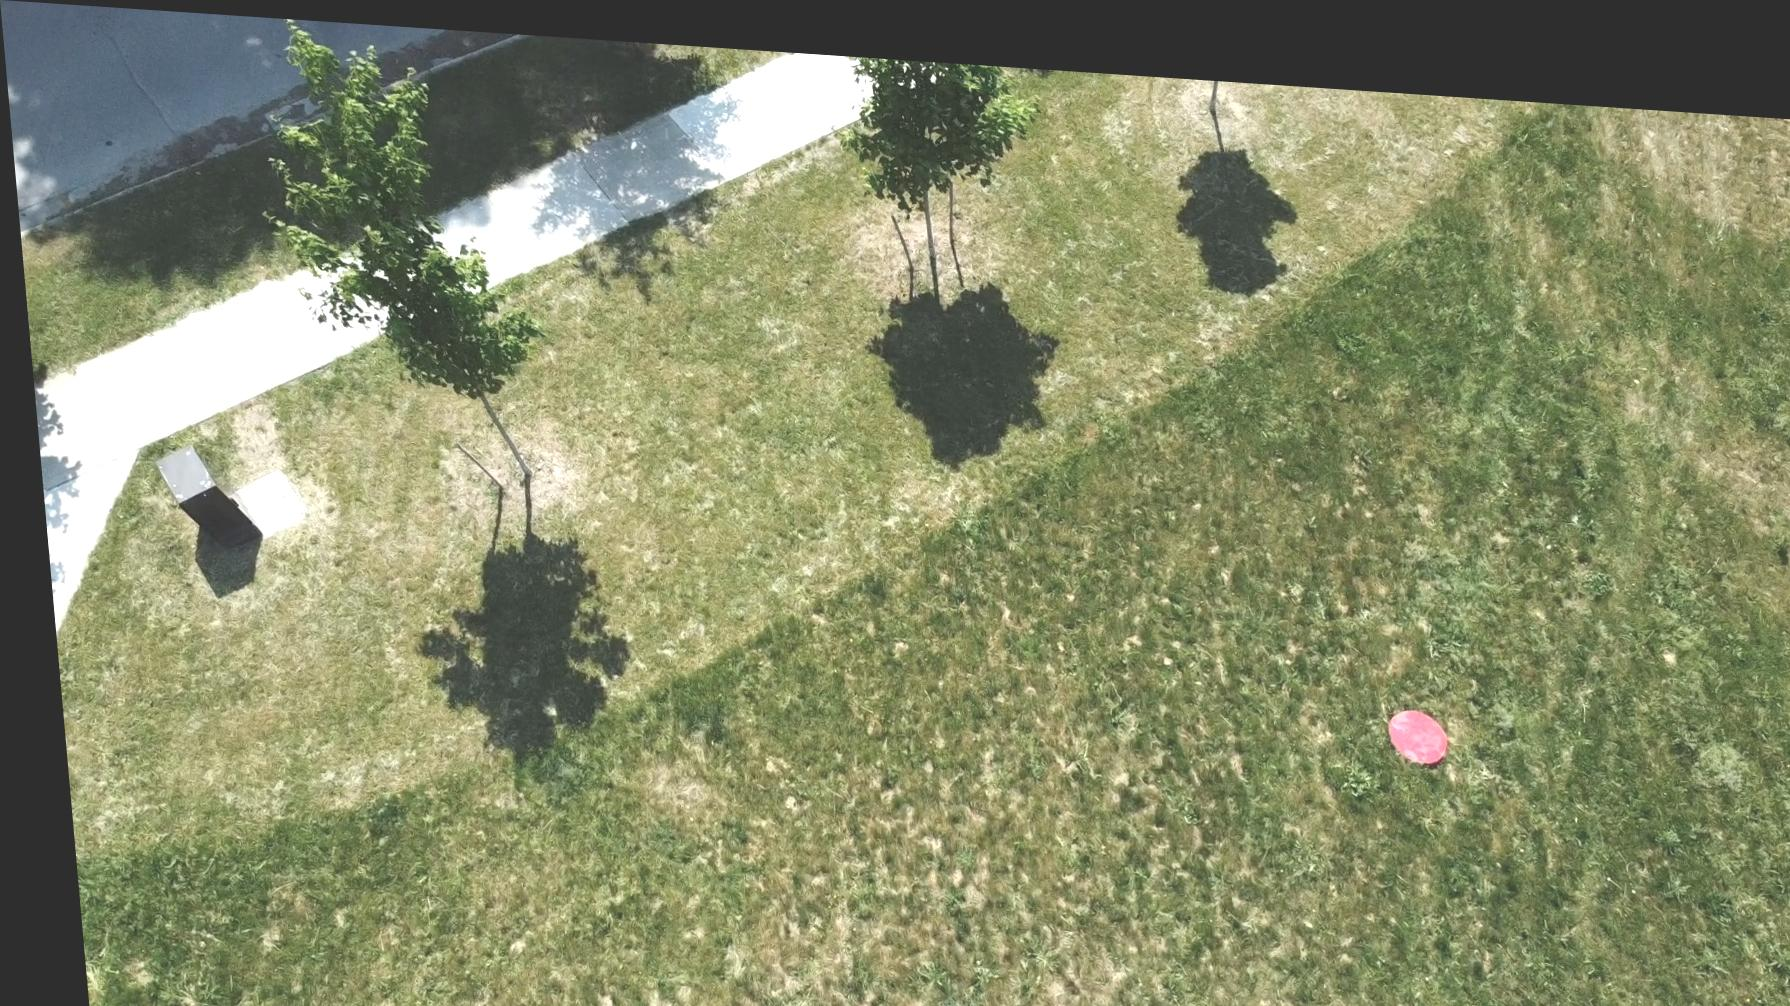Red: (1372, 687, 1438, 751)
